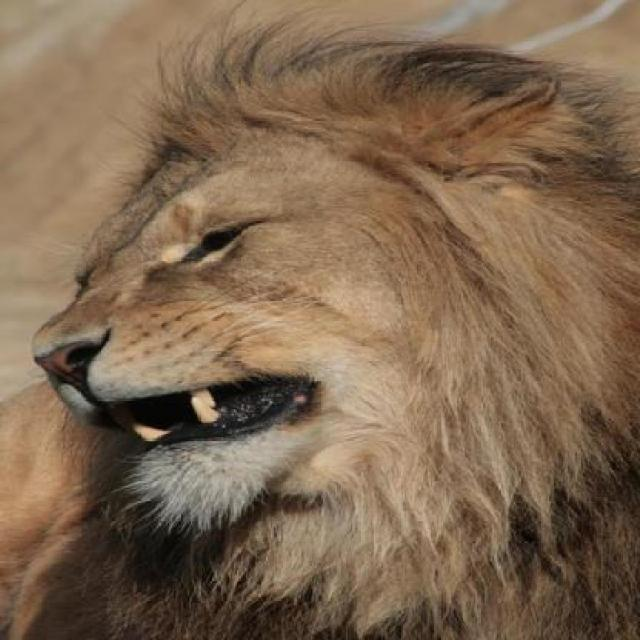Lion: (15, 21, 631, 638)
